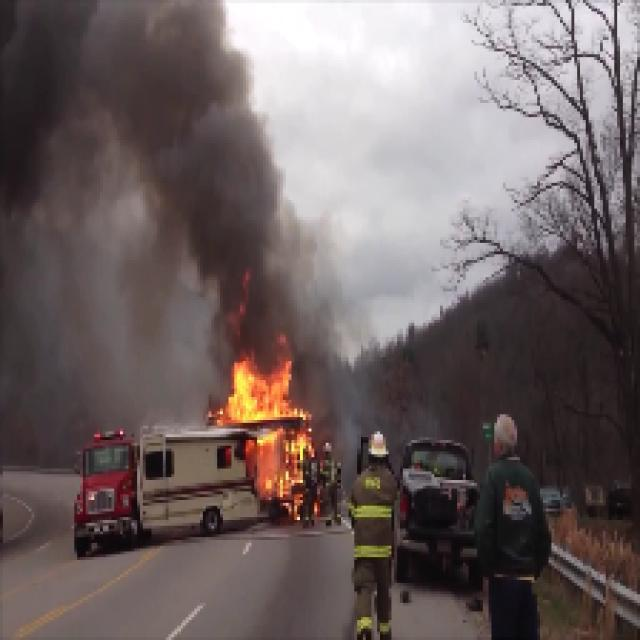Fire: (223, 364, 296, 414)
Smoke: (104, 18, 246, 183), (4, 12, 103, 172), (196, 193, 290, 358)
